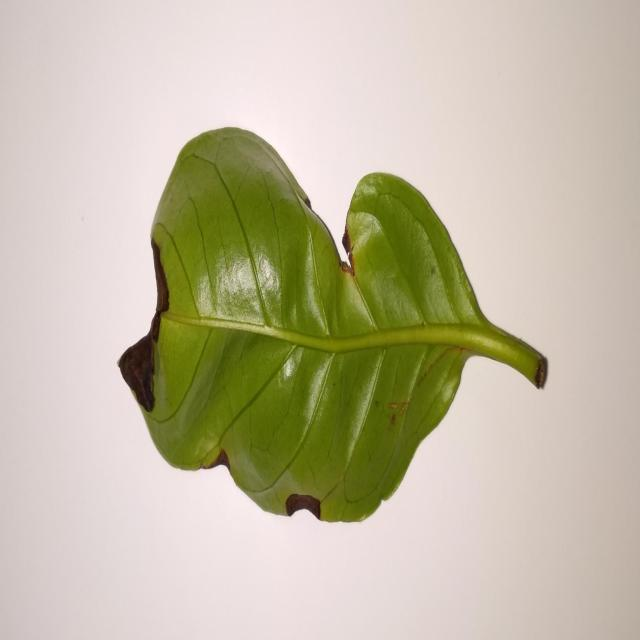Enfermedad-Antracnosis: (117, 127, 549, 526)
